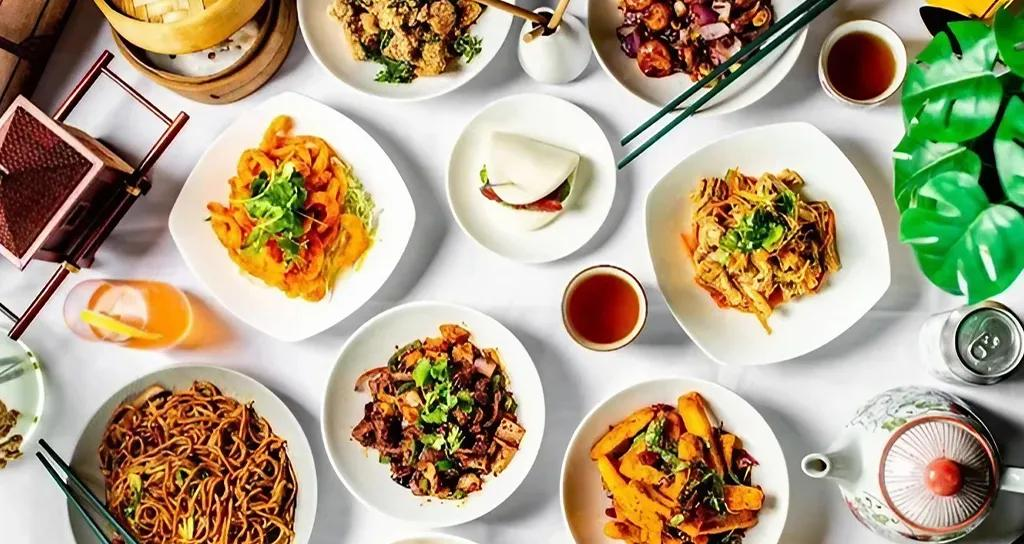Braised Crucian Carp: (169, 92, 408, 344), (645, 119, 887, 367), (322, 302, 540, 526), (66, 363, 312, 542), (560, 376, 786, 542), (447, 92, 613, 265), (585, 0, 811, 113)
